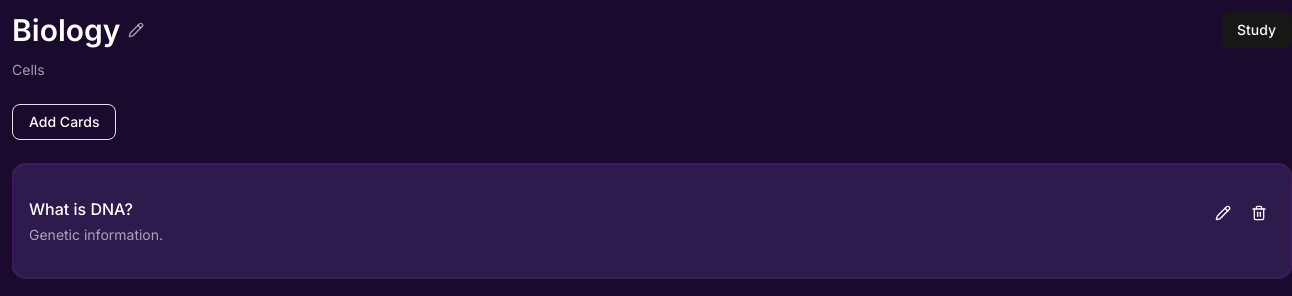
Test: DeckDetailView › renders loaded cards and renames the deck
Expected: the text "What is DNA?" is shown, [29,199,133,219]
Click the button "Biology".
click(78, 30)  # box [12,12,144,48]
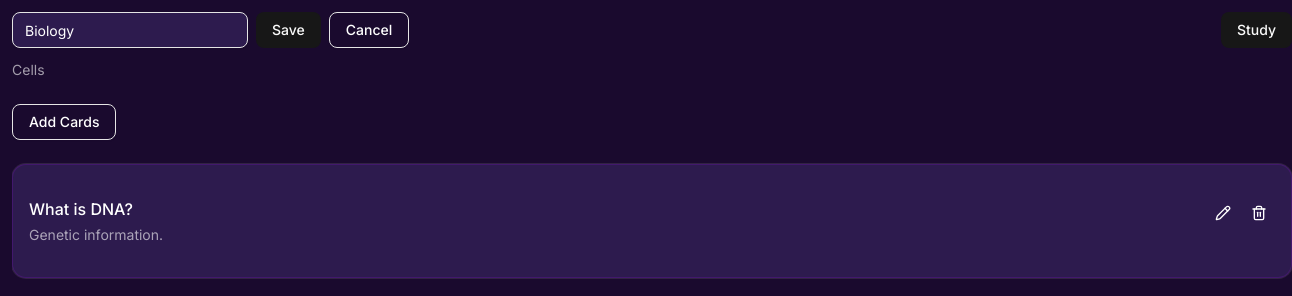
Replace the text in the field showing "Biology" with "Chemistry" at (130, 30), box [12,12,248,48]
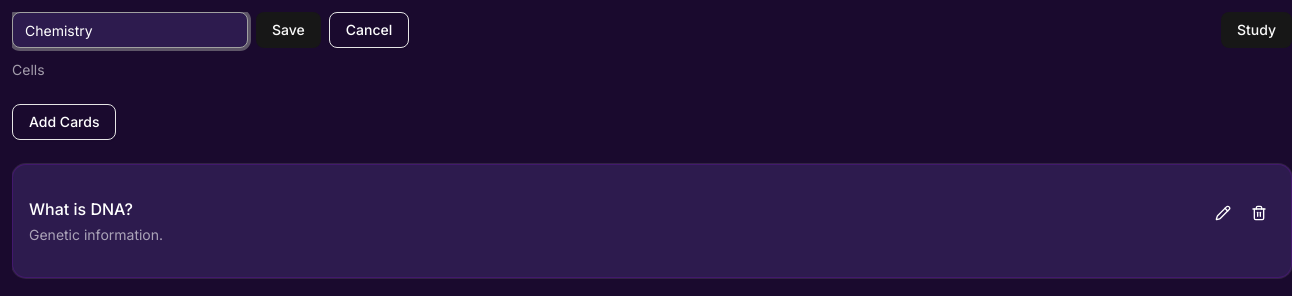
Click the button "Save".
click(288, 30)  # box [256,12,321,48]
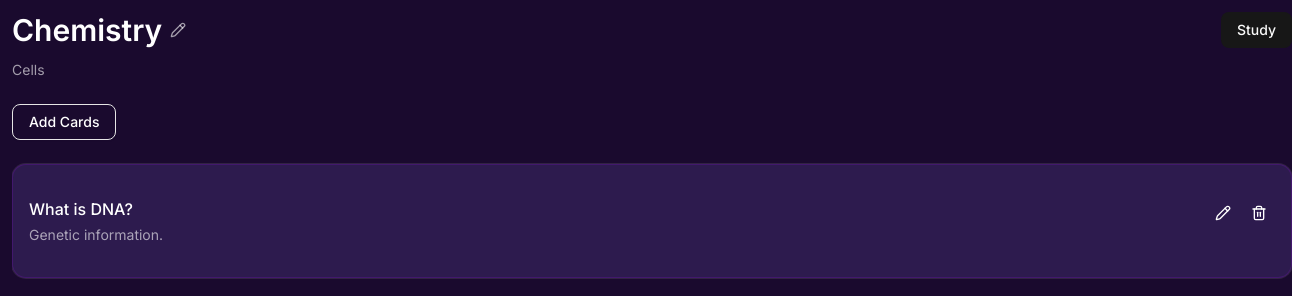
Now the button "Chemistry" is shown, box [12,12,186,48]
